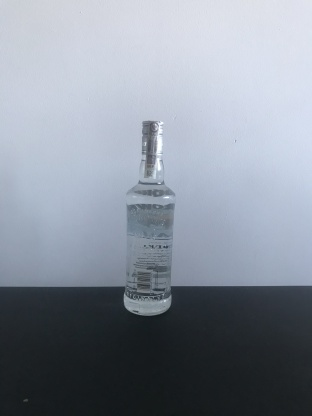nakretka: (138, 114, 166, 157)
